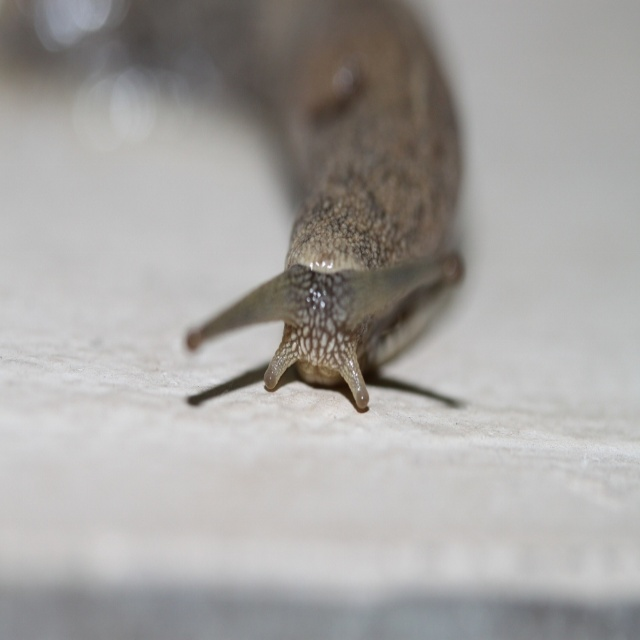Snail: (182, 0, 464, 404)
